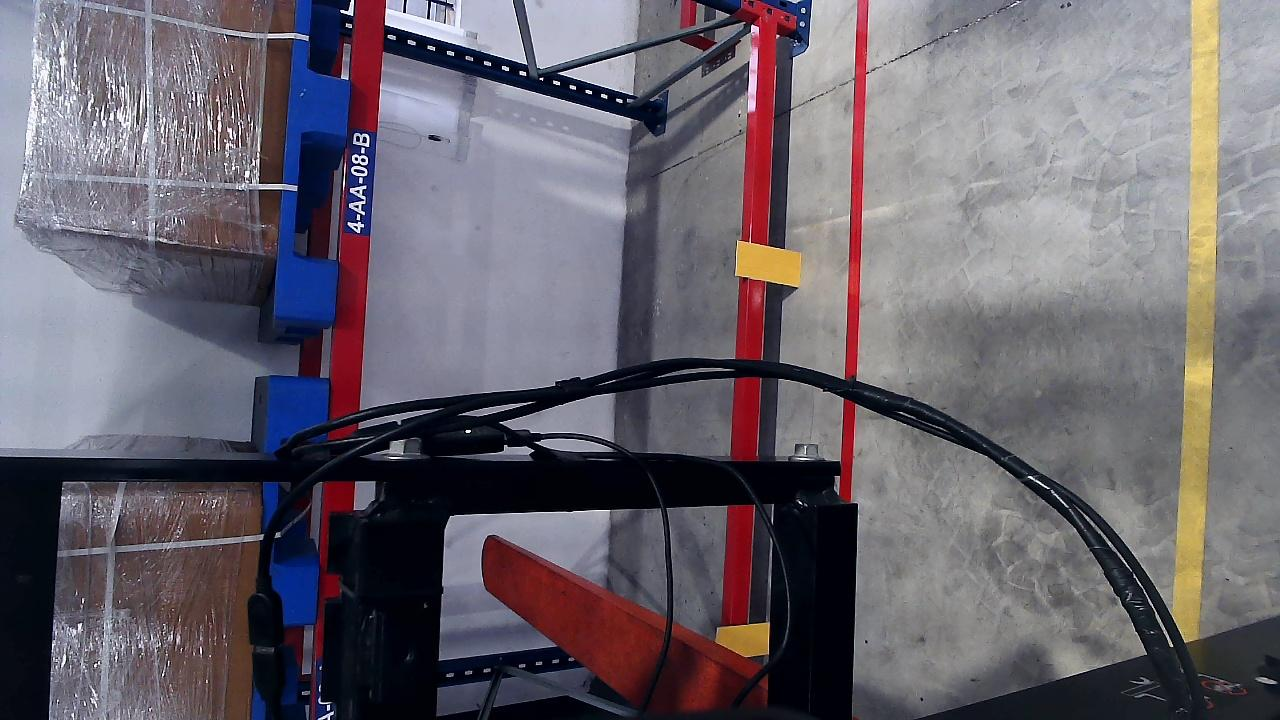h_rack: (720, 19, 779, 713), (326, 0, 389, 420)
orange_strip: (735, 241, 801, 287), (715, 621, 771, 656)
red_line: (840, 0, 866, 500)
small_pallet: (251, 376, 324, 720), (269, 0, 344, 319)
yellow_line: (1175, 9, 1221, 621)
